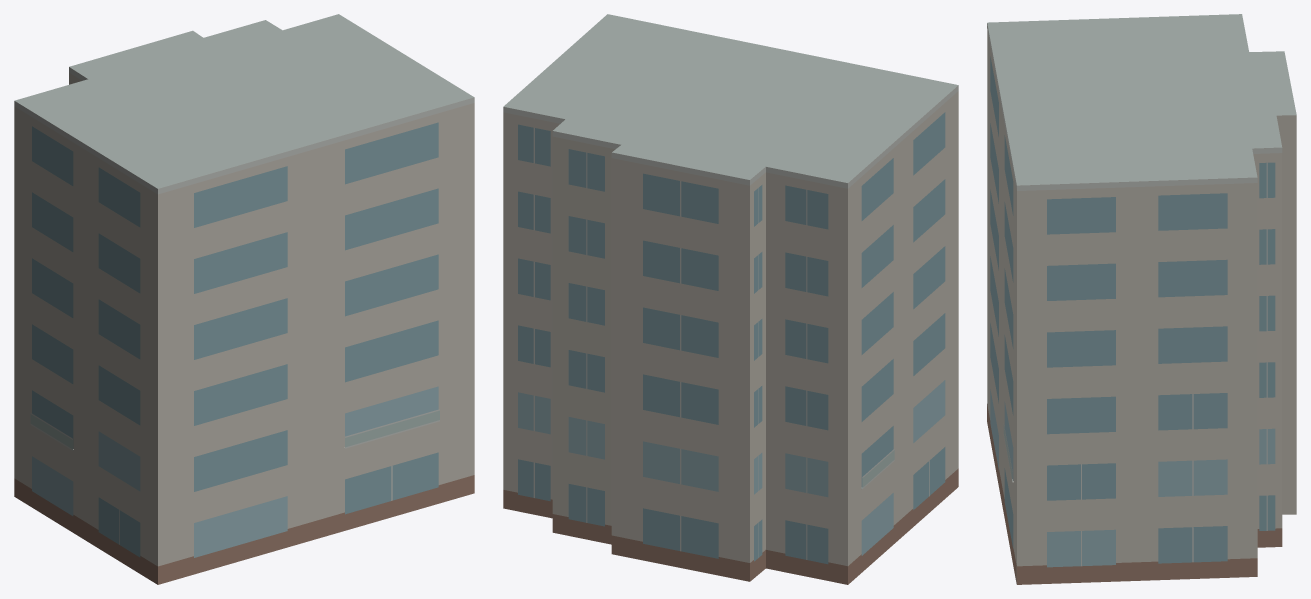
File: survey-upis-32966739.glb
3 renders of one model, left to right at view 1: azimuth 30°, elevation 25°; view 2: azimuth 150°, elevation 25°; view 3: azimuth 270°, elevation 25°, orthographic.
Visible parts, largest first — view 1: survey-upis-32966739.tmp; view 2: survey-upis-32966739.tmp; view 3: survey-upis-32966739.tmp.
Boxes of the visible parts, x1,y1,x2,y2 form: survey-upis-32966739.tmp: (14, 14, 474, 584); survey-upis-32966739.tmp: (503, 14, 958, 584); survey-upis-32966739.tmp: (987, 14, 1296, 584).
Bounding box in the file's own units: 16.13 × 17.5 × 12.31.
